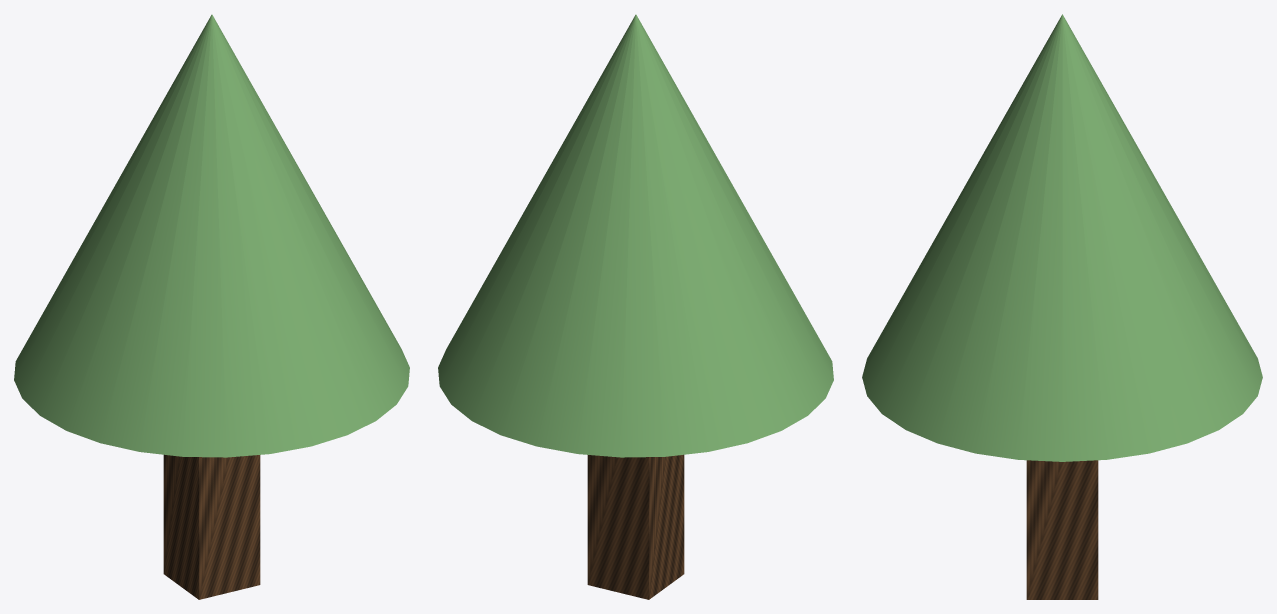
The model's file is tree.glb.
3 views of the same model, side by side, from view 1: azimuth 30°, elevation 25°; view 2: azimuth 150°, elevation 25°; view 3: azimuth 270°, elevation 25° (orthographic).
Visible parts, largest first — view 1: Tree; view 2: Tree; view 3: Tree.
Part boxes in pixels (<box>): Tree: <box>14,14,409,599</box>; Tree: <box>438,14,833,599</box>; Tree: <box>862,14,1262,599</box>.
Size of the model in its own units: 2.8 by 4.4 by 2.8.
Materials: 2 (1 with a texture image).
